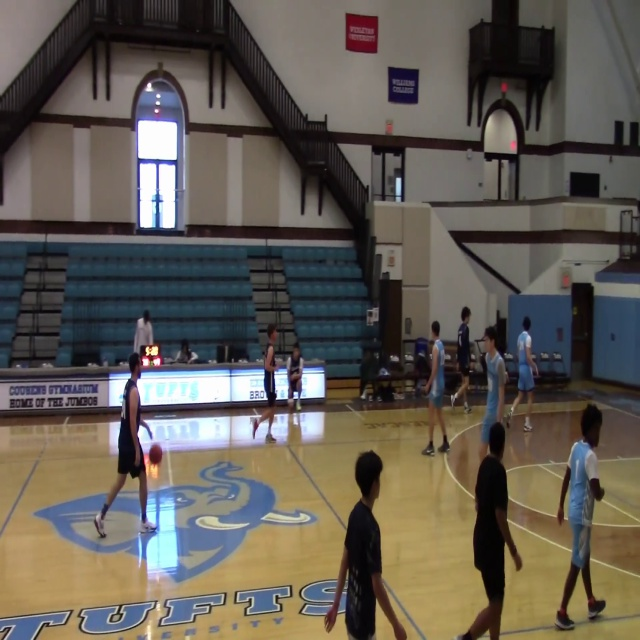Basketball: (148, 443, 162, 464)
